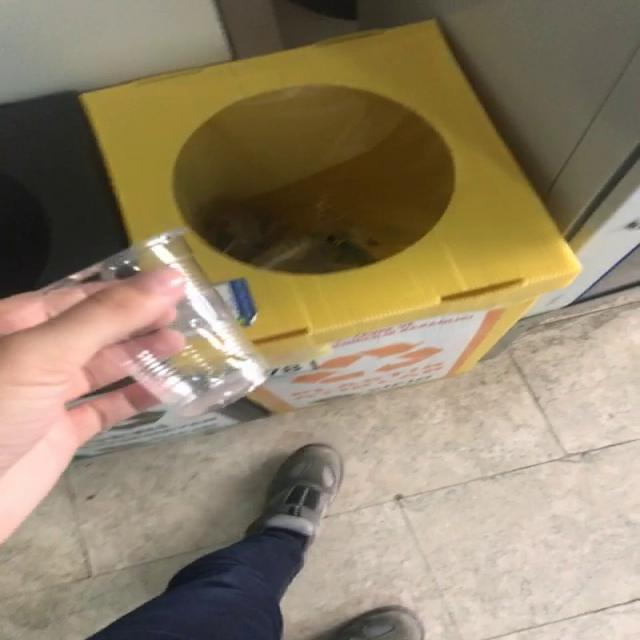plastic: (43, 229, 268, 418)
